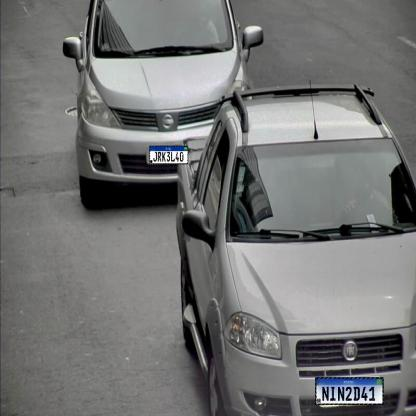PlacaM: (315, 377, 384, 405), (149, 146, 188, 164)
